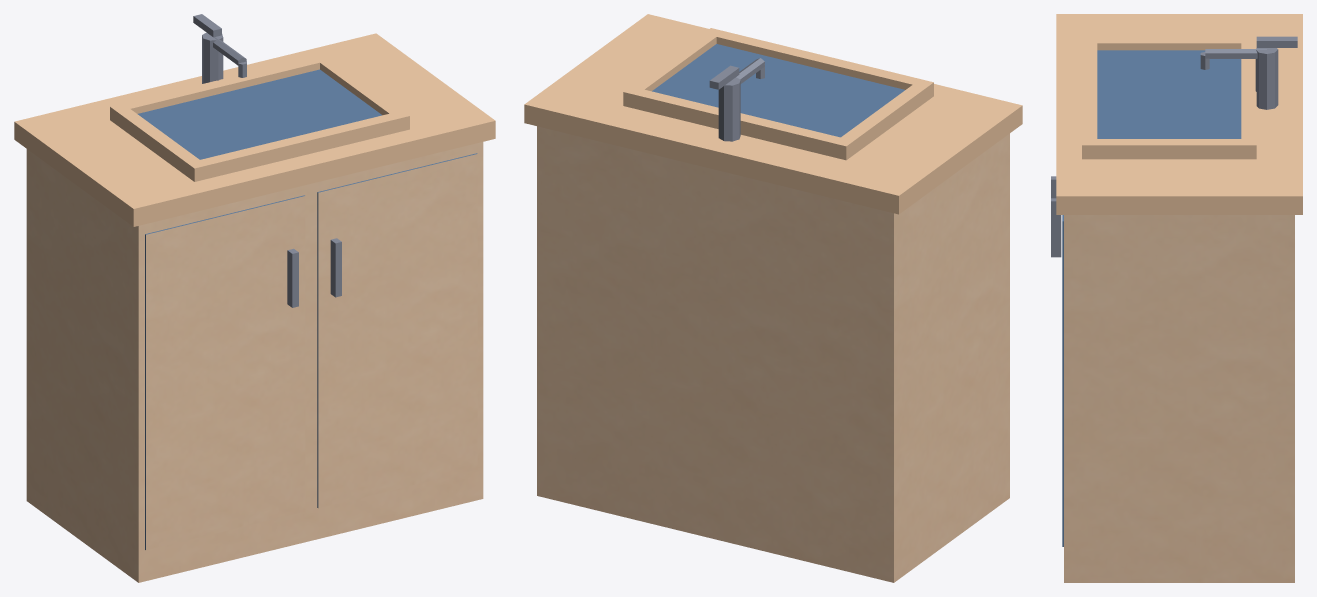
Rendered from Bathroom_Sink.fbx.
3 views of the same model, side by side, from view 1: azimuth 30°, elevation 25°; view 2: azimuth 150°, elevation 25°; view 3: azimuth 270°, elevation 25° (orthographic). The views are drawn at different scales.
Parts seen in each view (by area): view 1: Bathroom_Sink; view 2: Bathroom_Sink; view 3: Bathroom_Sink.
Part boxes in pixels (x1,y1,x2,y2): Bathroom_Sink: [14, 14, 495, 582]; Bathroom_Sink: [524, 14, 1022, 582]; Bathroom_Sink: [1051, 14, 1302, 582].
Size of the model in its own units: 0.84 by 0.9825 by 0.49.
1 material, 1 textured.
